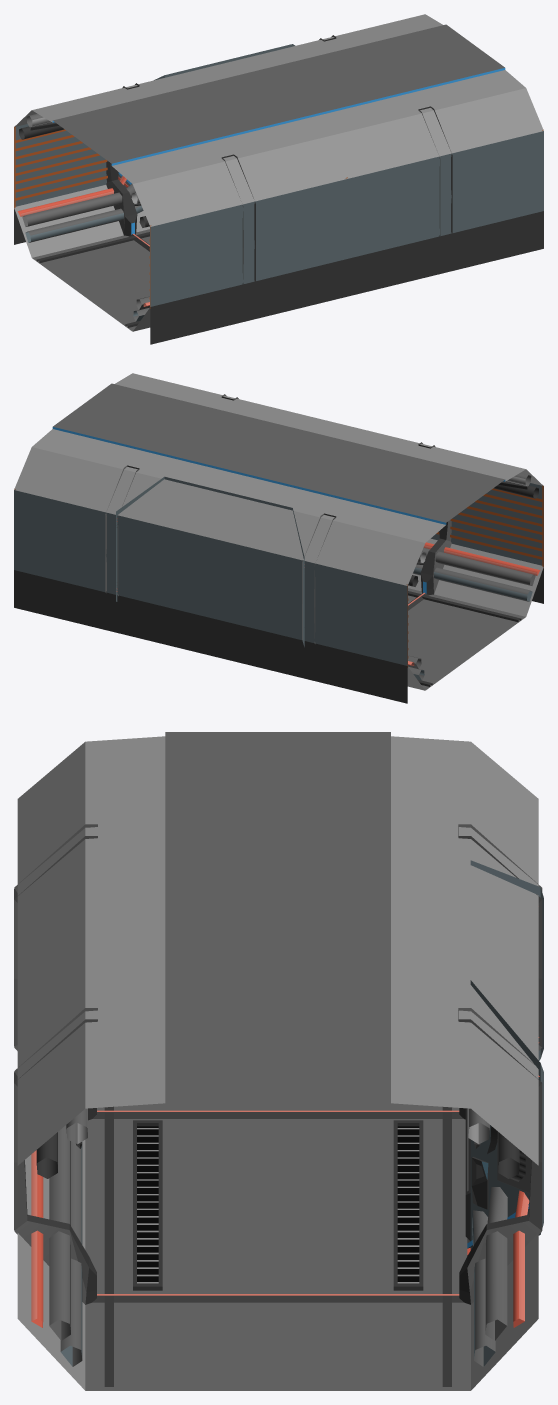
Rendered from Straight_SciFi_Tunnel_2.fbx.
The picture shows the model from 3 angles, top to bottom: view 1: azimuth 30°, elevation 25°; view 2: azimuth 150°, elevation 25°; view 3: azimuth 270°, elevation 25°; orthographic projection. The views are drawn at different scales.
Parts seen in each view (by area): view 1: Straight_SciFi_Tunnel_2_South, Straight_SciFi_Tunnel_2_Ceiling, Straight_SciFi_Tunnel_2, Straight_SciFi_Tunnel_2_North; view 2: Straight_SciFi_Tunnel_2_North, Straight_SciFi_Tunnel_2_Ceiling, Straight_SciFi_Tunnel_2, Straight_SciFi_Tunnel_2_South; view 3: Straight_SciFi_Tunnel_2_Ceiling, Straight_SciFi_Tunnel_2, Straight_SciFi_Tunnel_2_North, Straight_SciFi_Tunnel_2_South.
Part boxes in pixels (left/top/right/bottom): Straight_SciFi_Tunnel_2_South: left=132, top=88, right=543, bottom=308; Straight_SciFi_Tunnel_2_Ceiling: left=32, top=14, right=525, bottom=183; Straight_SciFi_Tunnel_2: left=14, top=175, right=543, bottom=344; Straight_SciFi_Tunnel_2_North: left=14, top=35, right=336, bottom=235; Straight_SciFi_Tunnel_2_North: left=14, top=447, right=425, bottom=667; Straight_SciFi_Tunnel_2_Ceiling: left=32, top=373, right=525, bottom=542; Straight_SciFi_Tunnel_2: left=14, top=538, right=543, bottom=703; Straight_SciFi_Tunnel_2_South: left=221, top=394, right=543, bottom=594; Straight_SciFi_Tunnel_2_Ceiling: left=85, top=732, right=470, bottom=1108; Straight_SciFi_Tunnel_2: left=17, top=1099, right=538, bottom=1390; Straight_SciFi_Tunnel_2_North: left=458, top=742, right=543, bottom=1304; Straight_SciFi_Tunnel_2_South: left=14, top=742, right=97, bottom=1304.
Bounding box in the file's own units: 1000 × 373 × 610.
